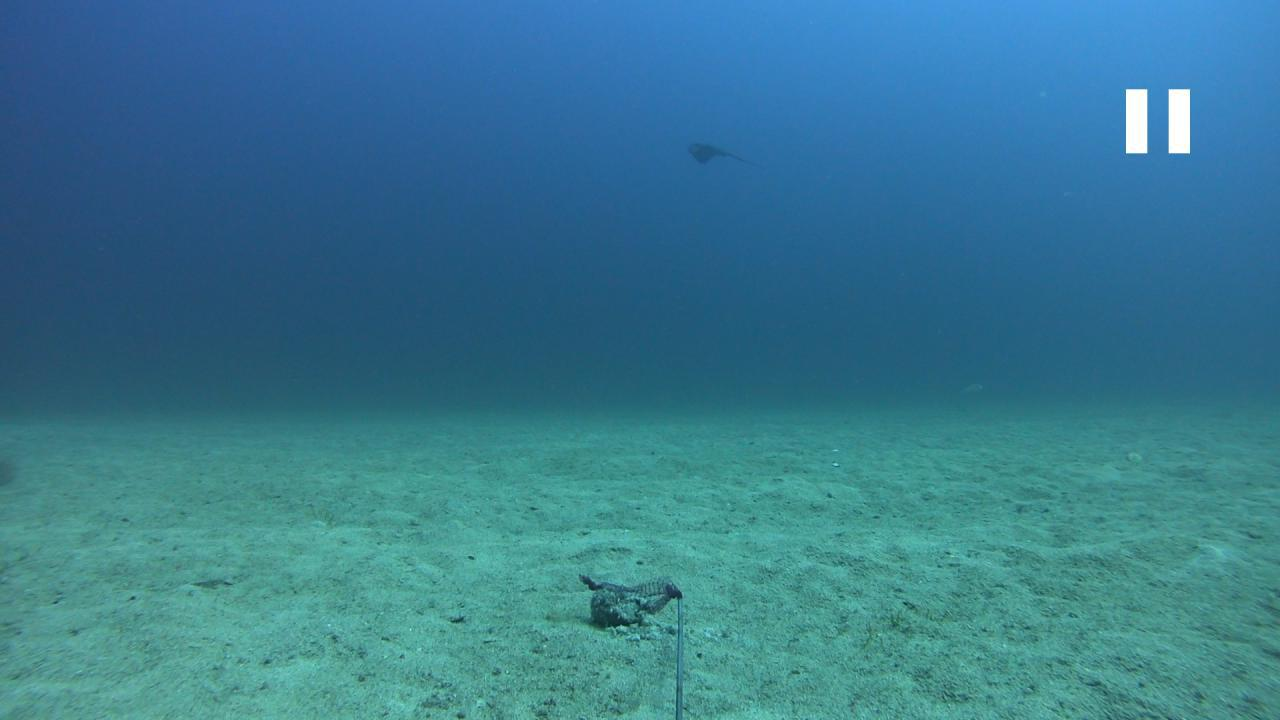dasyatis: (684, 138, 748, 162)
